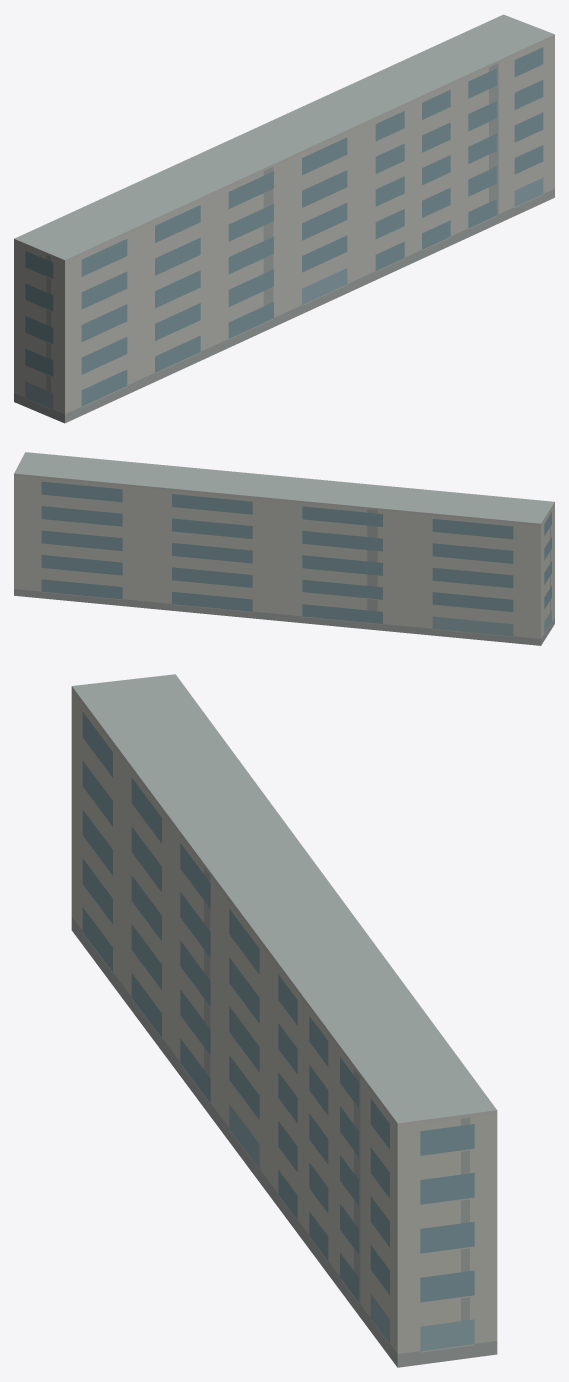
Rendered from survey-upis-32858846.glb.
3 views of the same model, one above another, from view 1: azimuth 30°, elevation 25°; view 2: azimuth 150°, elevation 25°; view 3: azimuth 270°, elevation 25° (orthographic). The views are drawn at different scales.
Visible parts, largest first — view 1: survey-upis-32858846.tmp; view 2: survey-upis-32858846.tmp; view 3: survey-upis-32858846.tmp.
Part boxes in pixels (<box>): survey-upis-32858846.tmp: <box>14,14,554,423</box>; survey-upis-32858846.tmp: <box>14,452,554,645</box>; survey-upis-32858846.tmp: <box>71,674,497,1367</box>.
Size of the model in its own units: 60.13 by 15.25 by 24.07.
